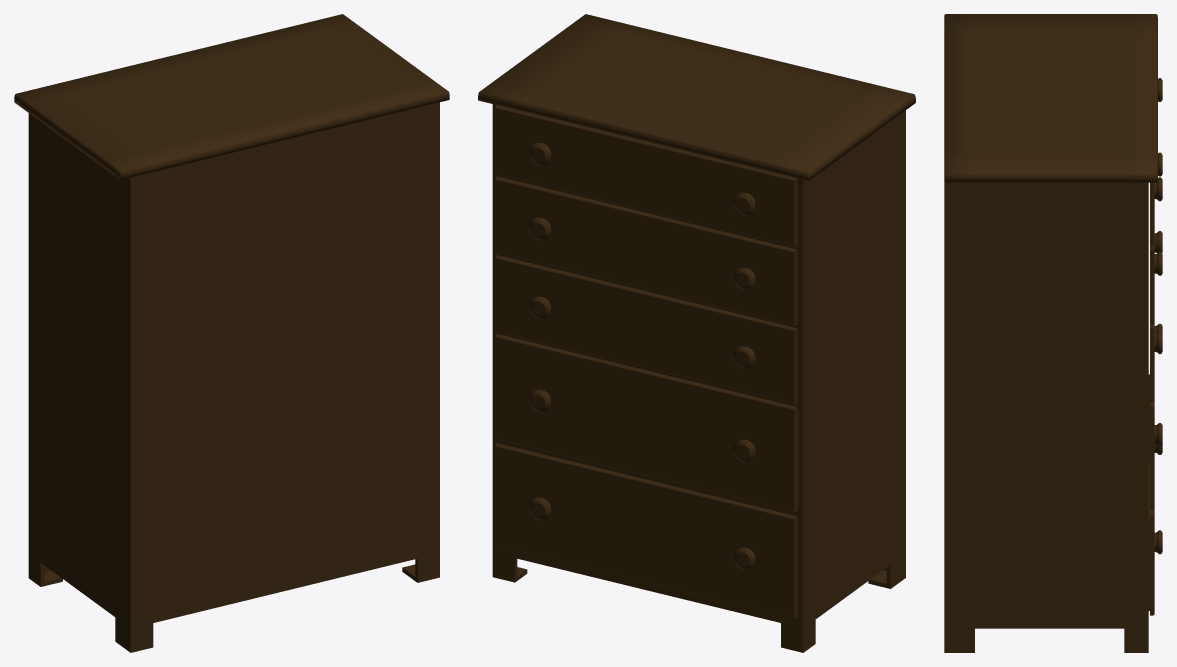
The model's file is Dresser.fbx.
3 views of the same model, side by side, from view 1: azimuth 30°, elevation 25°; view 2: azimuth 150°, elevation 25°; view 3: azimuth 270°, elevation 25° (orthographic).
Visible parts, largest first — view 1: Dresser; view 2: Dresser, Dresser Drawer2, Dresser Drawer1, Dresser Drawer3, Dresser Drawer4, Dresser Drawer5; view 3: Dresser, Dresser Drawer1, Dresser Drawer2, Dresser Drawer3, Dresser Drawer4, Dresser Drawer5.
Part boxes in pixels (x1,y1,x2,y2): Dresser: (14, 14, 449, 652); Dresser: (478, 14, 915, 652); Dresser Drawer2: (495, 334, 798, 511); Dresser Drawer1: (495, 443, 798, 618); Dresser Drawer3: (495, 255, 798, 404); Dresser Drawer4: (495, 176, 798, 325); Dresser Drawer5: (495, 105, 798, 247); Dresser: (944, 14, 1157, 652); Dresser Drawer1: (1148, 374, 1162, 615); Dresser Drawer2: (1150, 323, 1162, 509); Dresser Drawer3: (1150, 231, 1162, 402); Dresser Drawer4: (1150, 152, 1162, 324); Dresser Drawer5: (1150, 78, 1162, 246).
Bounding box in the file's own units: 0.81 × 1.14 × 0.4653.
